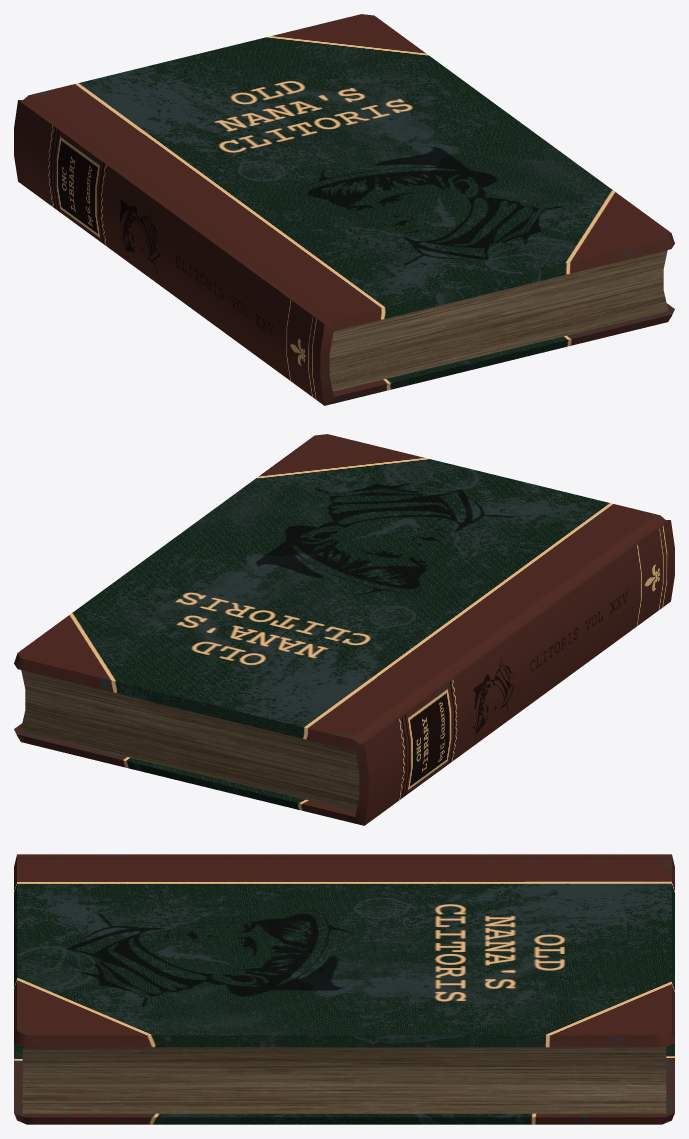
3 views of the same model, one above another, from view 1: azimuth 30°, elevation 25°; view 2: azimuth 150°, elevation 25°; view 3: azimuth 270°, elevation 25° (orthographic). The views are drawn at different scales.
Visible parts, largest first — view 1: Cover_shape, paper_shape1; view 2: Cover_shape, paper_shape1; view 3: Cover_shape, paper_shape1.
Part boxes in pixels (<box>): Cover_shape: <box>14,14,674,405</box>; paper_shape1: <box>329,250,668,391</box>; Cover_shape: <box>14,434,674,825</box>; paper_shape1: <box>20,670,359,811</box>; Cover_shape: <box>14,854,674,1124</box>; paper_shape1: <box>22,1047,666,1113</box>.
Size of the model in its own units: 2.41 by 0.54 by 3.62.
2 materials, 2 textured.
